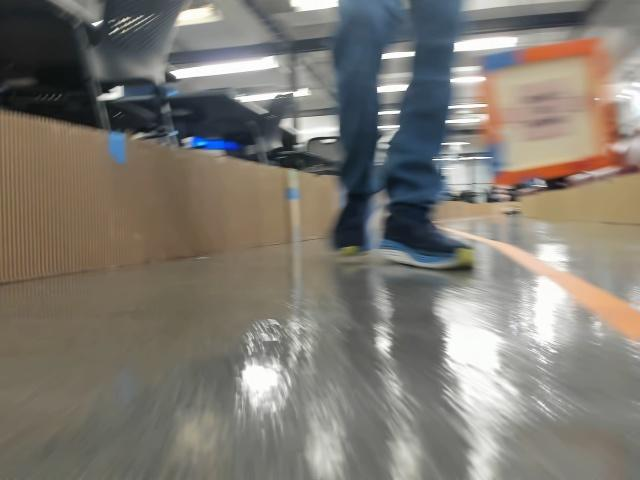Do Not Go Around: (496, 87, 588, 144)
